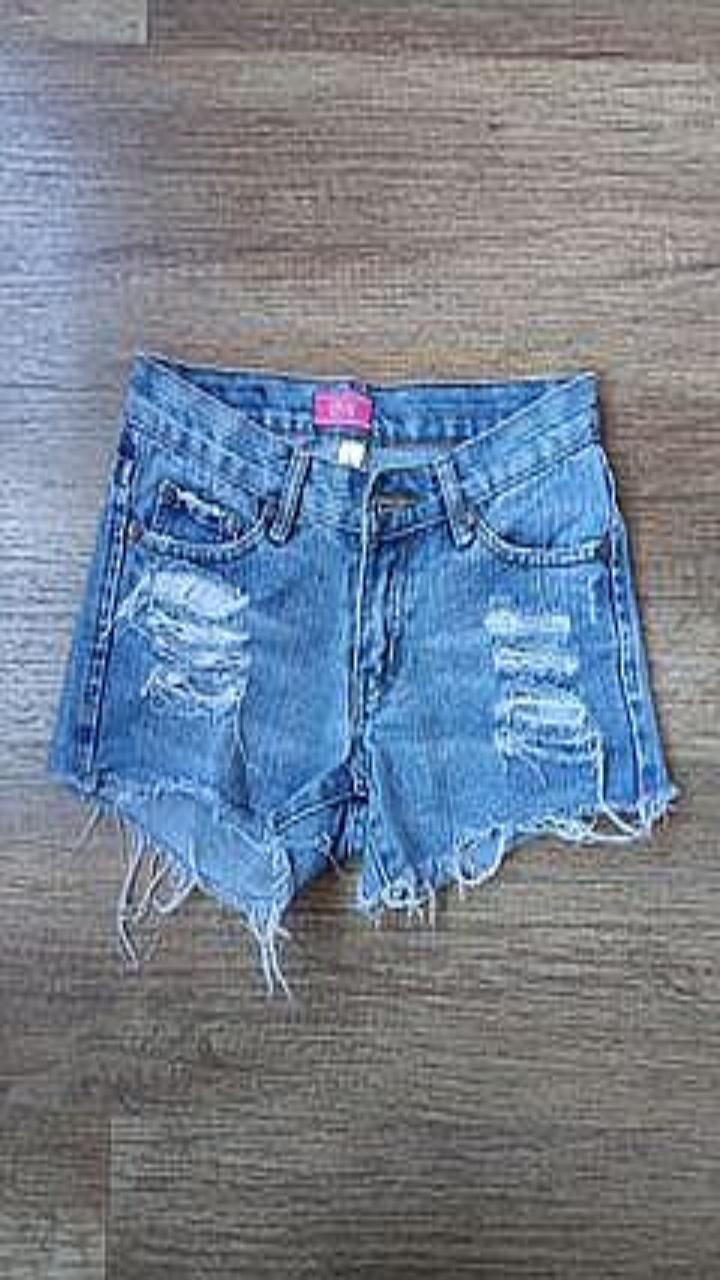Shorts: (48, 353, 676, 993)
